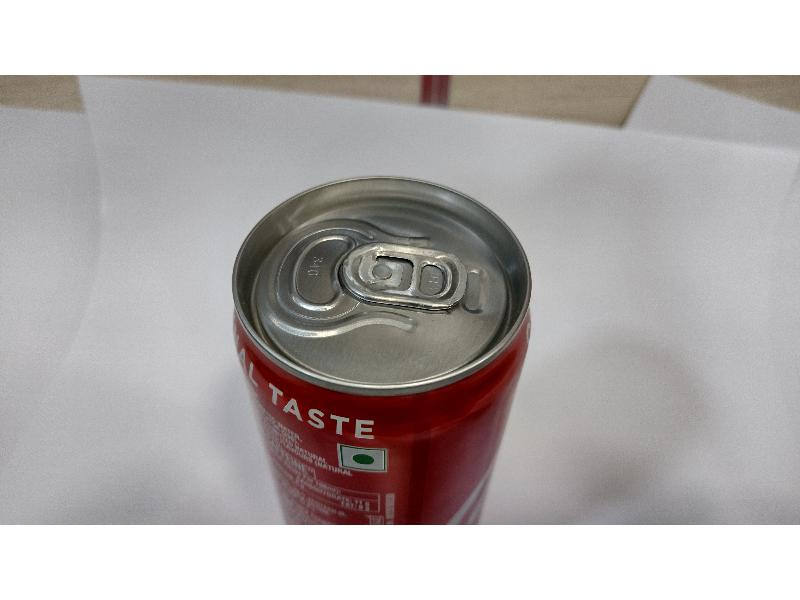can: (222, 164, 538, 523)
